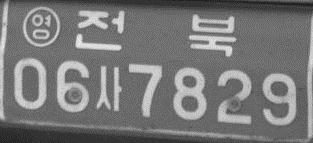0: (12, 56, 47, 111)
2: (216, 68, 252, 125)
6: (56, 59, 90, 113)
7: (127, 62, 163, 118)
8: (171, 66, 207, 121)
9: (261, 72, 297, 126)
사: (95, 66, 123, 111)
영: (21, 5, 61, 48)
전북_D: (74, 8, 237, 57)
